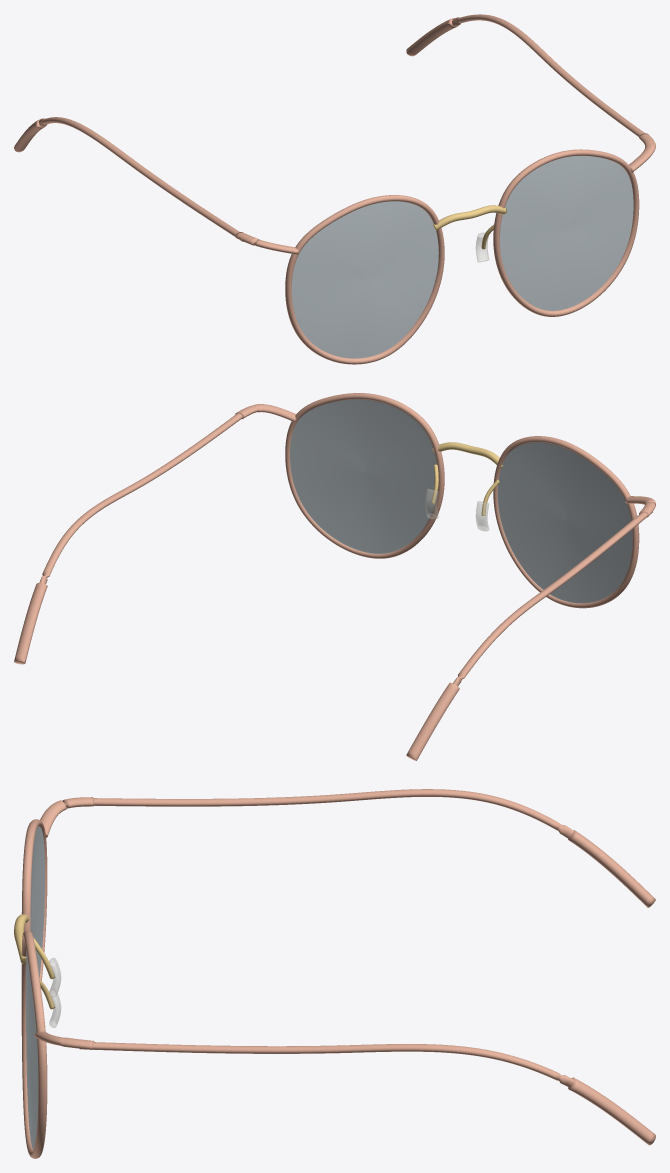
The model's file is prod-4.glb.
3 views of the same model, one above another, from view 1: azimuth 30°, elevation 25°; view 2: azimuth 150°, elevation 25°; view 3: azimuth 270°, elevation 25° (orthographic). The views are drawn at different scales.
Visible parts, largest first — view 1: Optical lens -1, Optical lens 1, Frame rim -1, Frame rim 1, Thin temple -1, Thin temple 1, Bridge, Temple tip 1, Hinge -1; view 2: Optical lens 1, Optical lens -1, Frame rim 1, Frame rim -1, Thin temple 1, Thin temple -1, Temple tip -1, Temple tip 1, Bridge; view 3: Thin temple -1, Thin temple 1, Frame rim 1, Optical lens 1, Optical lens -1, Frame rim -1, Temple tip 1, Temple tip -1, Hinge -1, Hinge 1.
Part boxes in pixels (bbox=[...]): Optical lens -1: bbox=[291, 201, 438, 358]; Optical lens 1: bbox=[499, 156, 633, 310]; Frame rim -1: bbox=[285, 195, 444, 364]; Frame rim 1: bbox=[493, 149, 639, 316]; Thin temple -1: bbox=[39, 117, 243, 241]; Thin temple 1: bbox=[452, 14, 644, 136]; Bridge: bbox=[433, 205, 506, 230]; Temple tip 1: bbox=[406, 18, 458, 56]; Hinge -1: bbox=[235, 232, 298, 254]; Optical lens 1: bbox=[290, 399, 436, 553]; Optical lens -1: bbox=[497, 442, 632, 603]; Frame rim 1: bbox=[285, 393, 444, 558]; Frame rim -1: bbox=[493, 436, 639, 608]; Thin temple 1: bbox=[17, 413, 242, 663]; Thin temple -1: bbox=[409, 511, 652, 759]; Temple tip -1: bbox=[406, 682, 459, 760]; Temple tip 1: bbox=[14, 583, 47, 664]; Bridge: bbox=[432, 442, 502, 469]; Thin temple -1: bbox=[93, 789, 573, 838]; Thin temple 1: bbox=[79, 1042, 573, 1087]; Frame rim 1: bbox=[21, 930, 47, 1158]; Optical lens 1: bbox=[26, 949, 38, 1149]; Optical lens -1: bbox=[30, 826, 44, 977]; Frame rim -1: bbox=[21, 819, 47, 980]; Temple tip 1: bbox=[568, 1077, 655, 1145]; Temple tip -1: bbox=[568, 830, 655, 907]; Hinge -1: bbox=[40, 797, 94, 837]; Hinge 1: bbox=[34, 1031, 94, 1049].
Bounding box in the file's own units: 0.1365 × 0.0495 × 0.1425.
